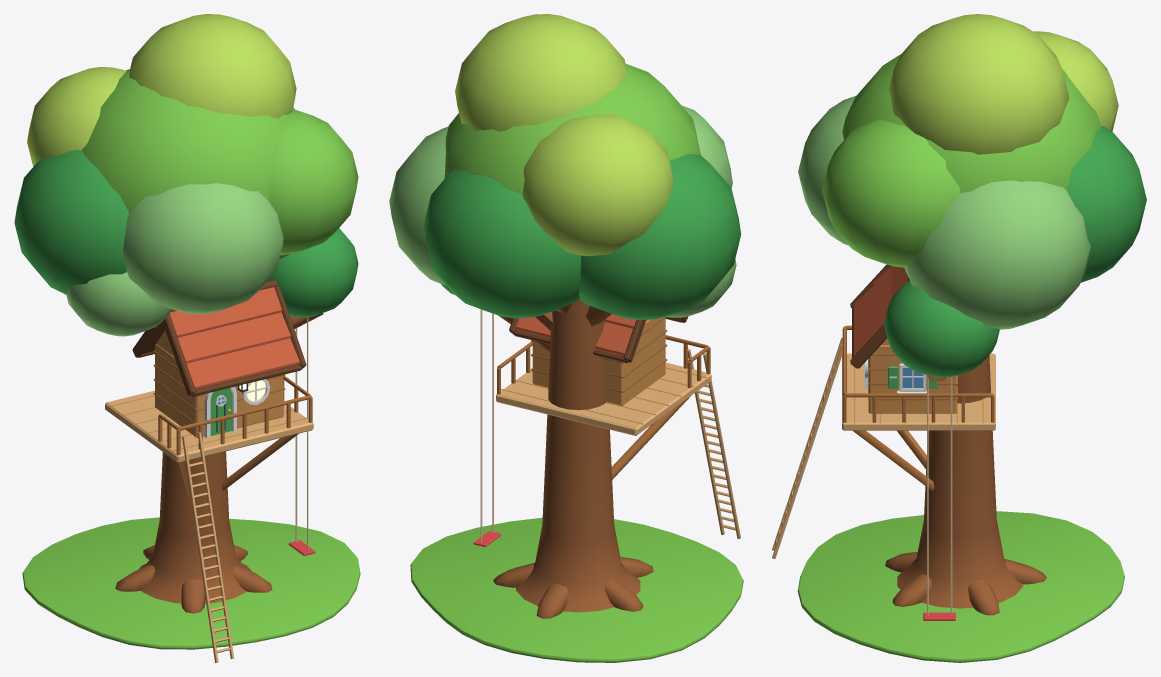
File: casa_arvore.glb
The picture shows the model from 3 angles, left to right: view 1: azimuth 30°, elevation 25°; view 2: azimuth 150°, elevation 25°; view 3: azimuth 270°, elevation 25°; orthographic projection. The views are drawn at different scales.
Visible parts, largest first — view 1: casa_arvore; view 2: casa_arvore; view 3: casa_arvore.
Part boxes in pixels (<box>): casa_arvore: <box>14,14,360,662</box>; casa_arvore: <box>389,14,743,662</box>; casa_arvore: <box>772,14,1146,662</box>.
Bounding box in the file's own units: 12.71 × 21.47 × 12.66.
Materials: 5 (1 with a texture image).
